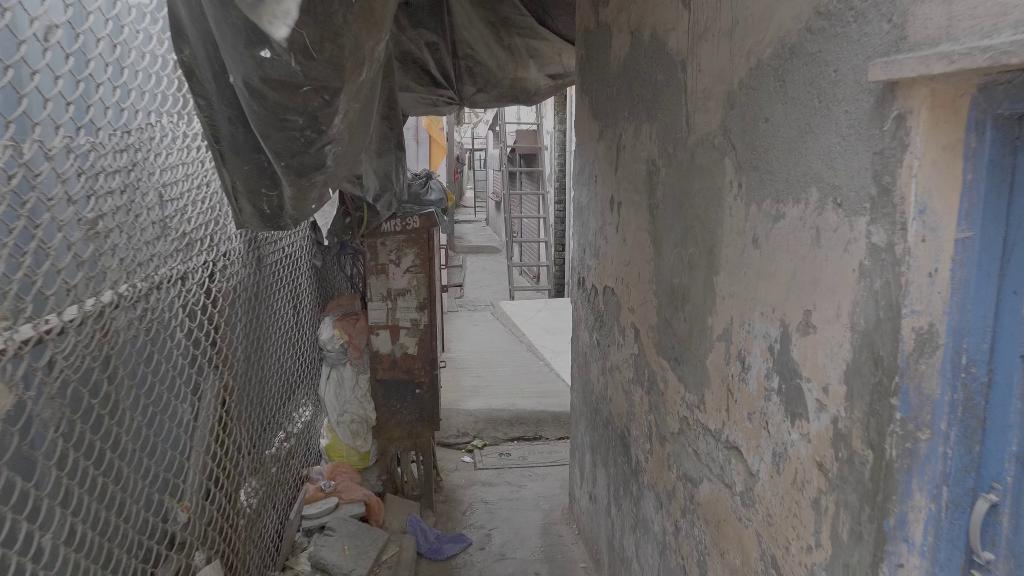garbage: (402, 503, 476, 561)
